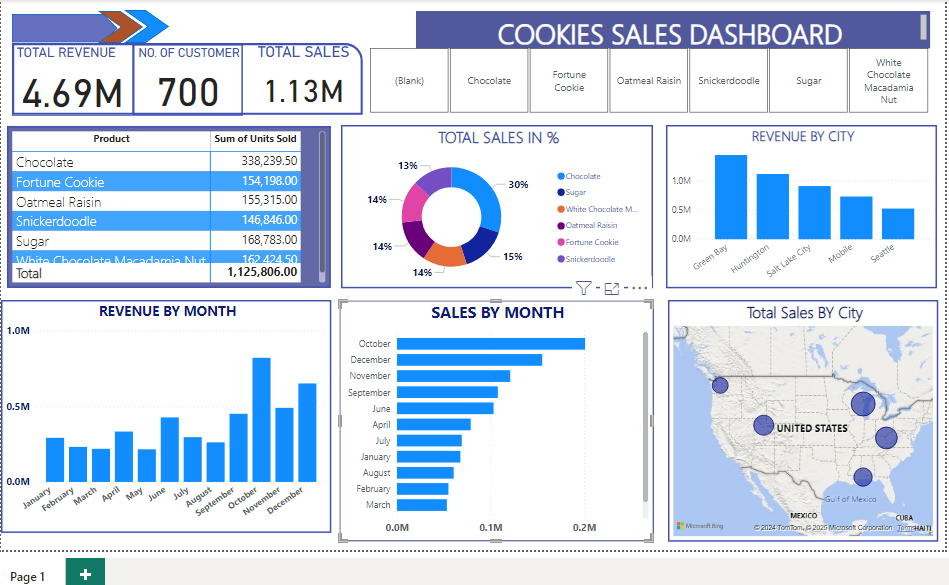

The page's visual inventory and layout, read from the dashboard file:
{"tool":"powerbi","page":{"name":"Page 1","canvas":[1290,751],"ordinal":0},"visuals":[{"type":"card","title":"TOTAL REVENUE","fields":{"Values":["Sum(Orders.Revenue)"]},"box":[15.3,59.6,165.1,98.5],"z":0},{"type":"pivotTable","fields":{"Rows":["Orders.Product"],"Values":["Sum(Orders.Units Sold)"]},"box":[8.3,172,442.5,220.5],"z":1000},{"type":"card","title":"NO. OF CUSTOMER","fields":{"Values":["CountNonNull(Orders.Customer ID)"]},"box":[180.3,59.6,149.8,98.5],"z":2000},{"type":"card","title":"TOTAL SALES","fields":{"Values":["Sum(Orders.Units Sold)"]},"box":[330.1,59.3,164.2,98.2],"z":3000},{"type":"clusteredColumnChart","title":"REVENUE BY CITY","fields":{"Category":["Customers.City"],"Y":["Sum(Orders.Revenue)"]},"box":[908.5,170.6,370.4,223],"z":4000},{"type":"map","title":"Total Sales BY City","fields":{"Category":["Customers.City"],"Size":["Sum(Orders.Units Sold)"]},"box":[910.2,410,369.5,330.4],"z":5000},{"type":"donutChart","title":"TOTAL SALES IN %","fields":{"Y":["Sum(Orders.Units Sold)"],"Category":["Orders.Product"]},"box":[464.7,170.6,425.8,223.3],"z":6000},{"type":"barChart","title":"SALES BY MONTH","fields":{"Category":["Orders.Date.Variation.Date Hierarchy.Month"],"Y":["Sum(Orders.Units Sold)"]},"box":[461.1,410,429.6,330.4],"z":7000},{"type":"clusteredColumnChart","title":"REVENUE BY MONTH","fields":{"Category":["Orders.Date.Variation.Date Hierarchy.Month"],"Y":["Sum(Orders.Revenue)"]},"box":[0,410,450.6,318.4],"z":8000},{"type":"slicer","fields":{"Values":["Orders.Product"]},"box":[482.5,59.3,807.5,99.9],"z":9000},{"type":"shape","box":[15.2,59.3,479.1,98.2],"z":10000},{"type":"textbox","box":[567.3,15.3,701.9,51.3],"z":11000},{"type":"shape","box":[15,19.5,144.2,39.1],"z":12000},{"type":"shape","box":[132.2,15,61.6,43.6],"z":13000},{"type":"shape","box":[168.2,13.5,61.6,45.1],"z":14000}]}

Visuals, with their boxes in screenshot pixels (x1, y1, x2, y2):
"TOTAL REVENUE" card: 16 43 136 115
pivotTable - Orders.Product x Sum(Orders.Units Sold): 11 125 332 285
"NO. OF CUSTOMER" card: 136 43 244 115
"TOTAL SALES" card: 244 43 364 114
"REVENUE BY CITY" clusteredColumnChart: 664 124 933 286
"Total Sales BY City" map: 665 297 933 537
"TOTAL SALES IN %" donutChart: 342 124 651 286
"SALES BY MONTH" barChart: 339 297 651 537
"REVENUE BY MONTH" clusteredColumnChart: 5 297 332 528
slicer - Orders.Product: 355 43 941 115
shape: 16 43 364 114
textbox: 417 11 926 48
shape: 16 14 120 43
shape: 101 11 146 43
shape: 127 10 172 43
